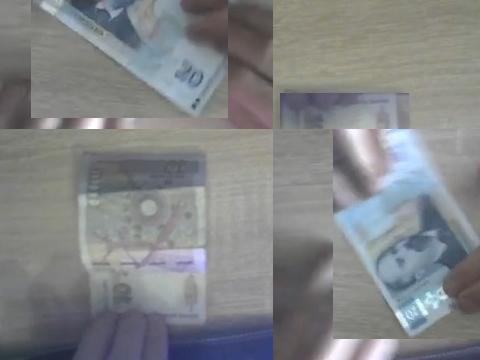20leva: (333, 129, 480, 339), (31, 0, 228, 118)
